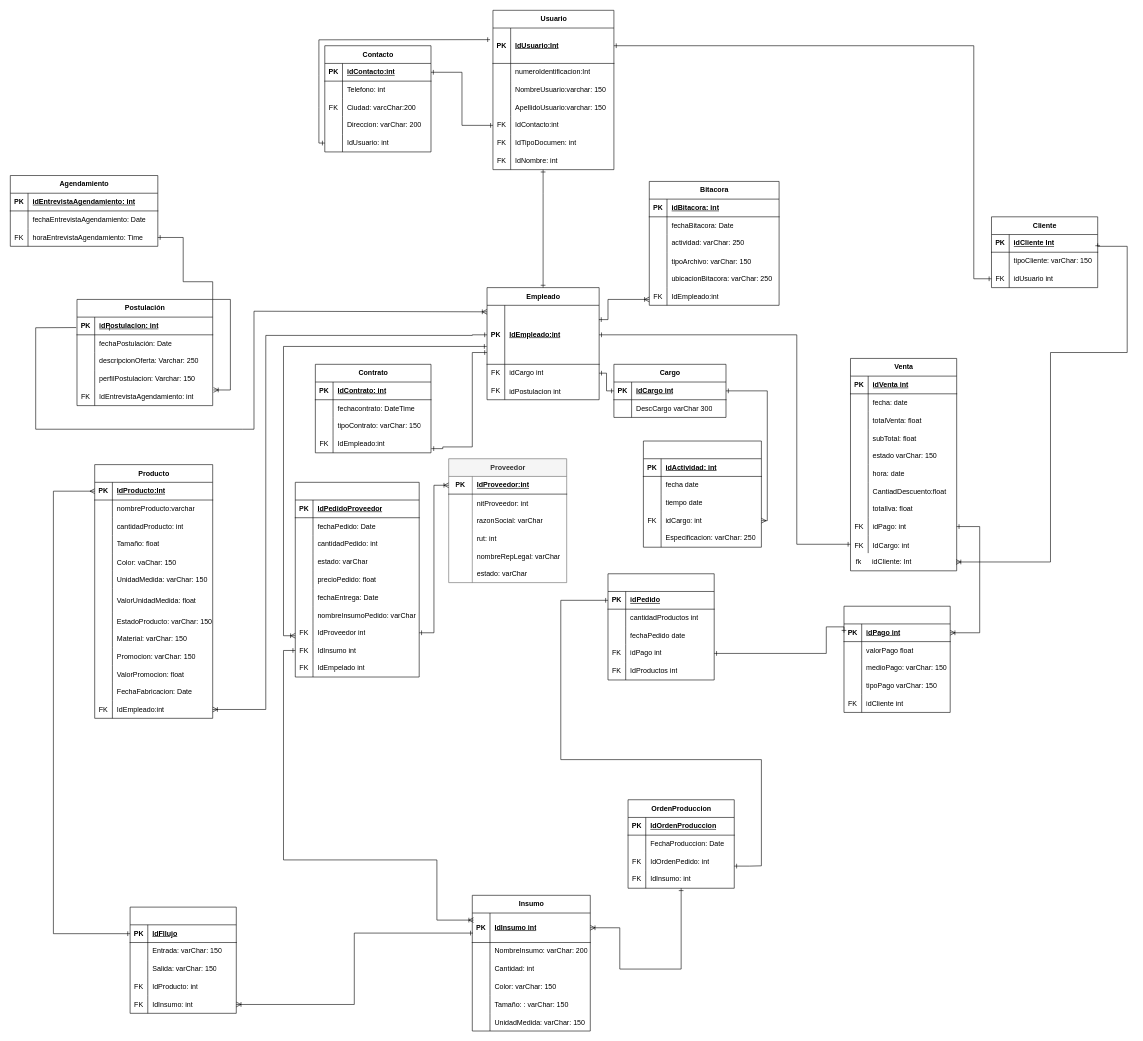
The diagram is 1143 pixels wide and 1041 high, and some of its shapes have lost their labels. The box of each missing label's shape, as (x1, y1, x2, y2) in pixels:
Actividades: (643, 440, 761, 547)
Flujo: (130, 907, 236, 1013)
OrdenPedido: (607, 573, 714, 680)
Pagos: (843, 606, 950, 712)
PedidoProvedor: (295, 482, 419, 677)
